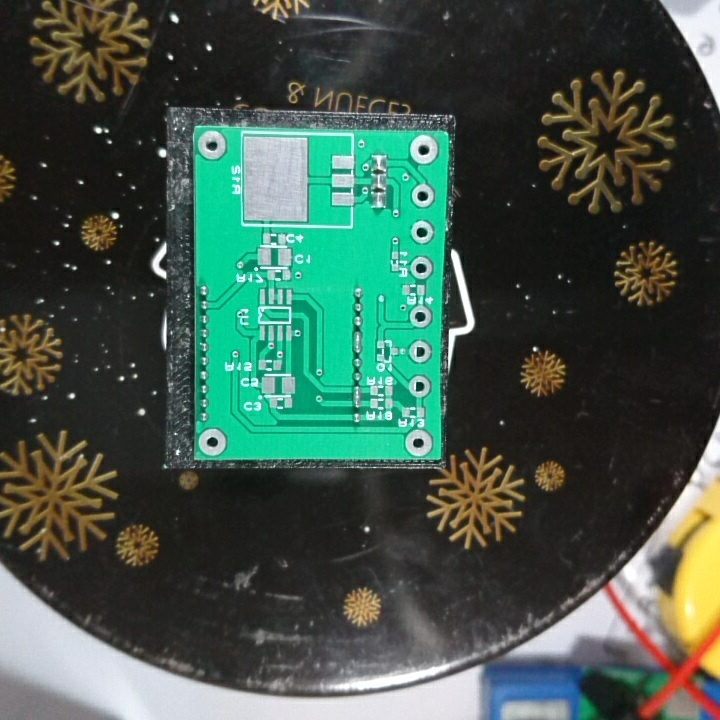F: (195, 127, 230, 166), (407, 132, 442, 168), (402, 425, 437, 459), (197, 425, 231, 456), (404, 338, 436, 367), (410, 182, 439, 211), (408, 218, 438, 246), (409, 252, 437, 281), (406, 303, 433, 332), (407, 374, 435, 401)
P: (349, 328, 370, 356), (350, 383, 366, 413)
